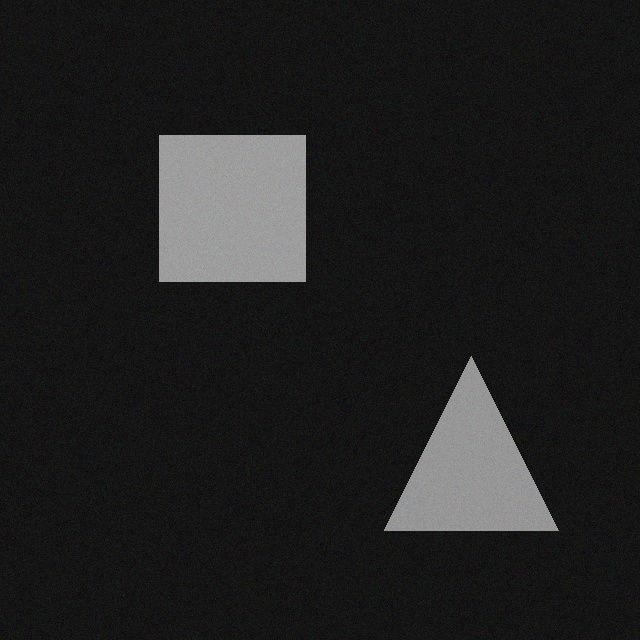square: (168, 128, 314, 274)
triangle: (393, 349, 567, 523)
